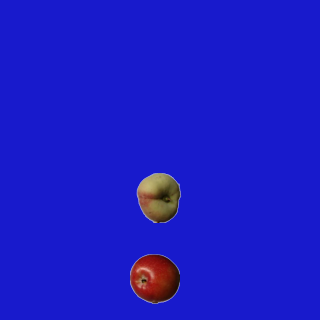Apple Braeburn: (129, 253, 179, 303)
Peach Flat: (133, 172, 183, 222)
